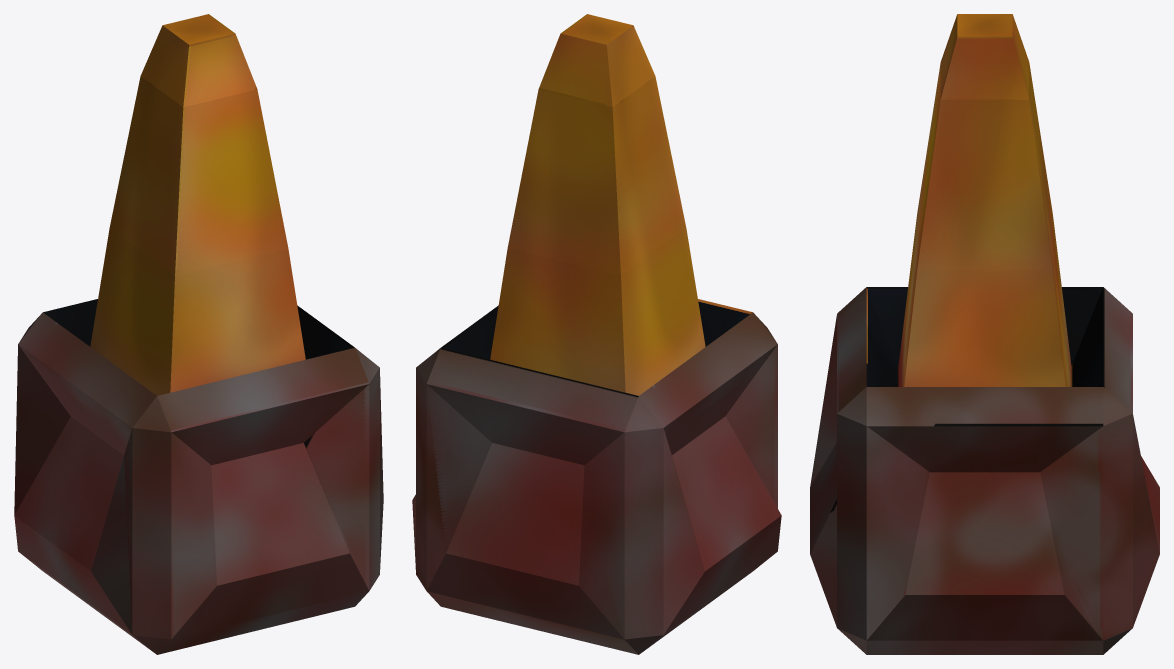
File: tallRobot.fbx
3 views of the same model, side by side, from view 1: azimuth 30°, elevation 25°; view 2: azimuth 150°, elevation 25°; view 3: azimuth 270°, elevation 25° (orthographic). The views are drawn at different scales.
Parts seen in each view (by area): view 1: Body; view 2: Body; view 3: Body.
Part boxes in pixels (left/top/right/bottom): Body: left=14, top=14, right=383, bottom=654; Body: left=412, top=14, right=781, bottom=654; Body: left=810, top=14, right=1159, bottom=654.
Bounding box in the file's own units: 236 × 432 × 236.
